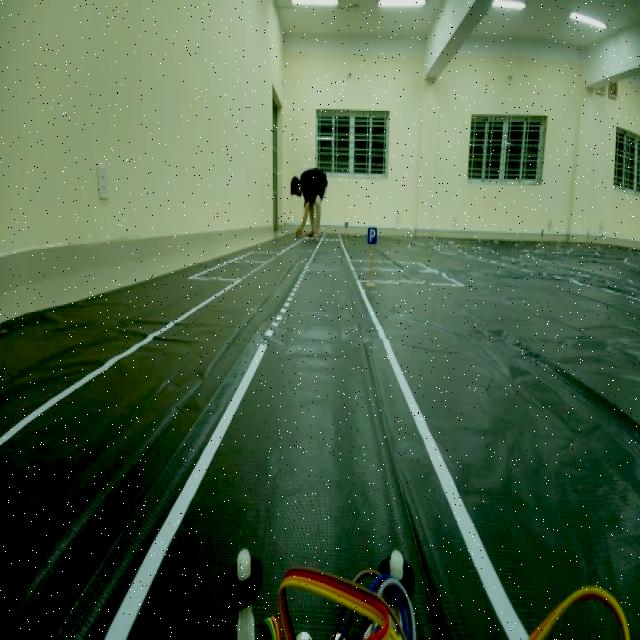parking: (366, 221, 381, 245)
